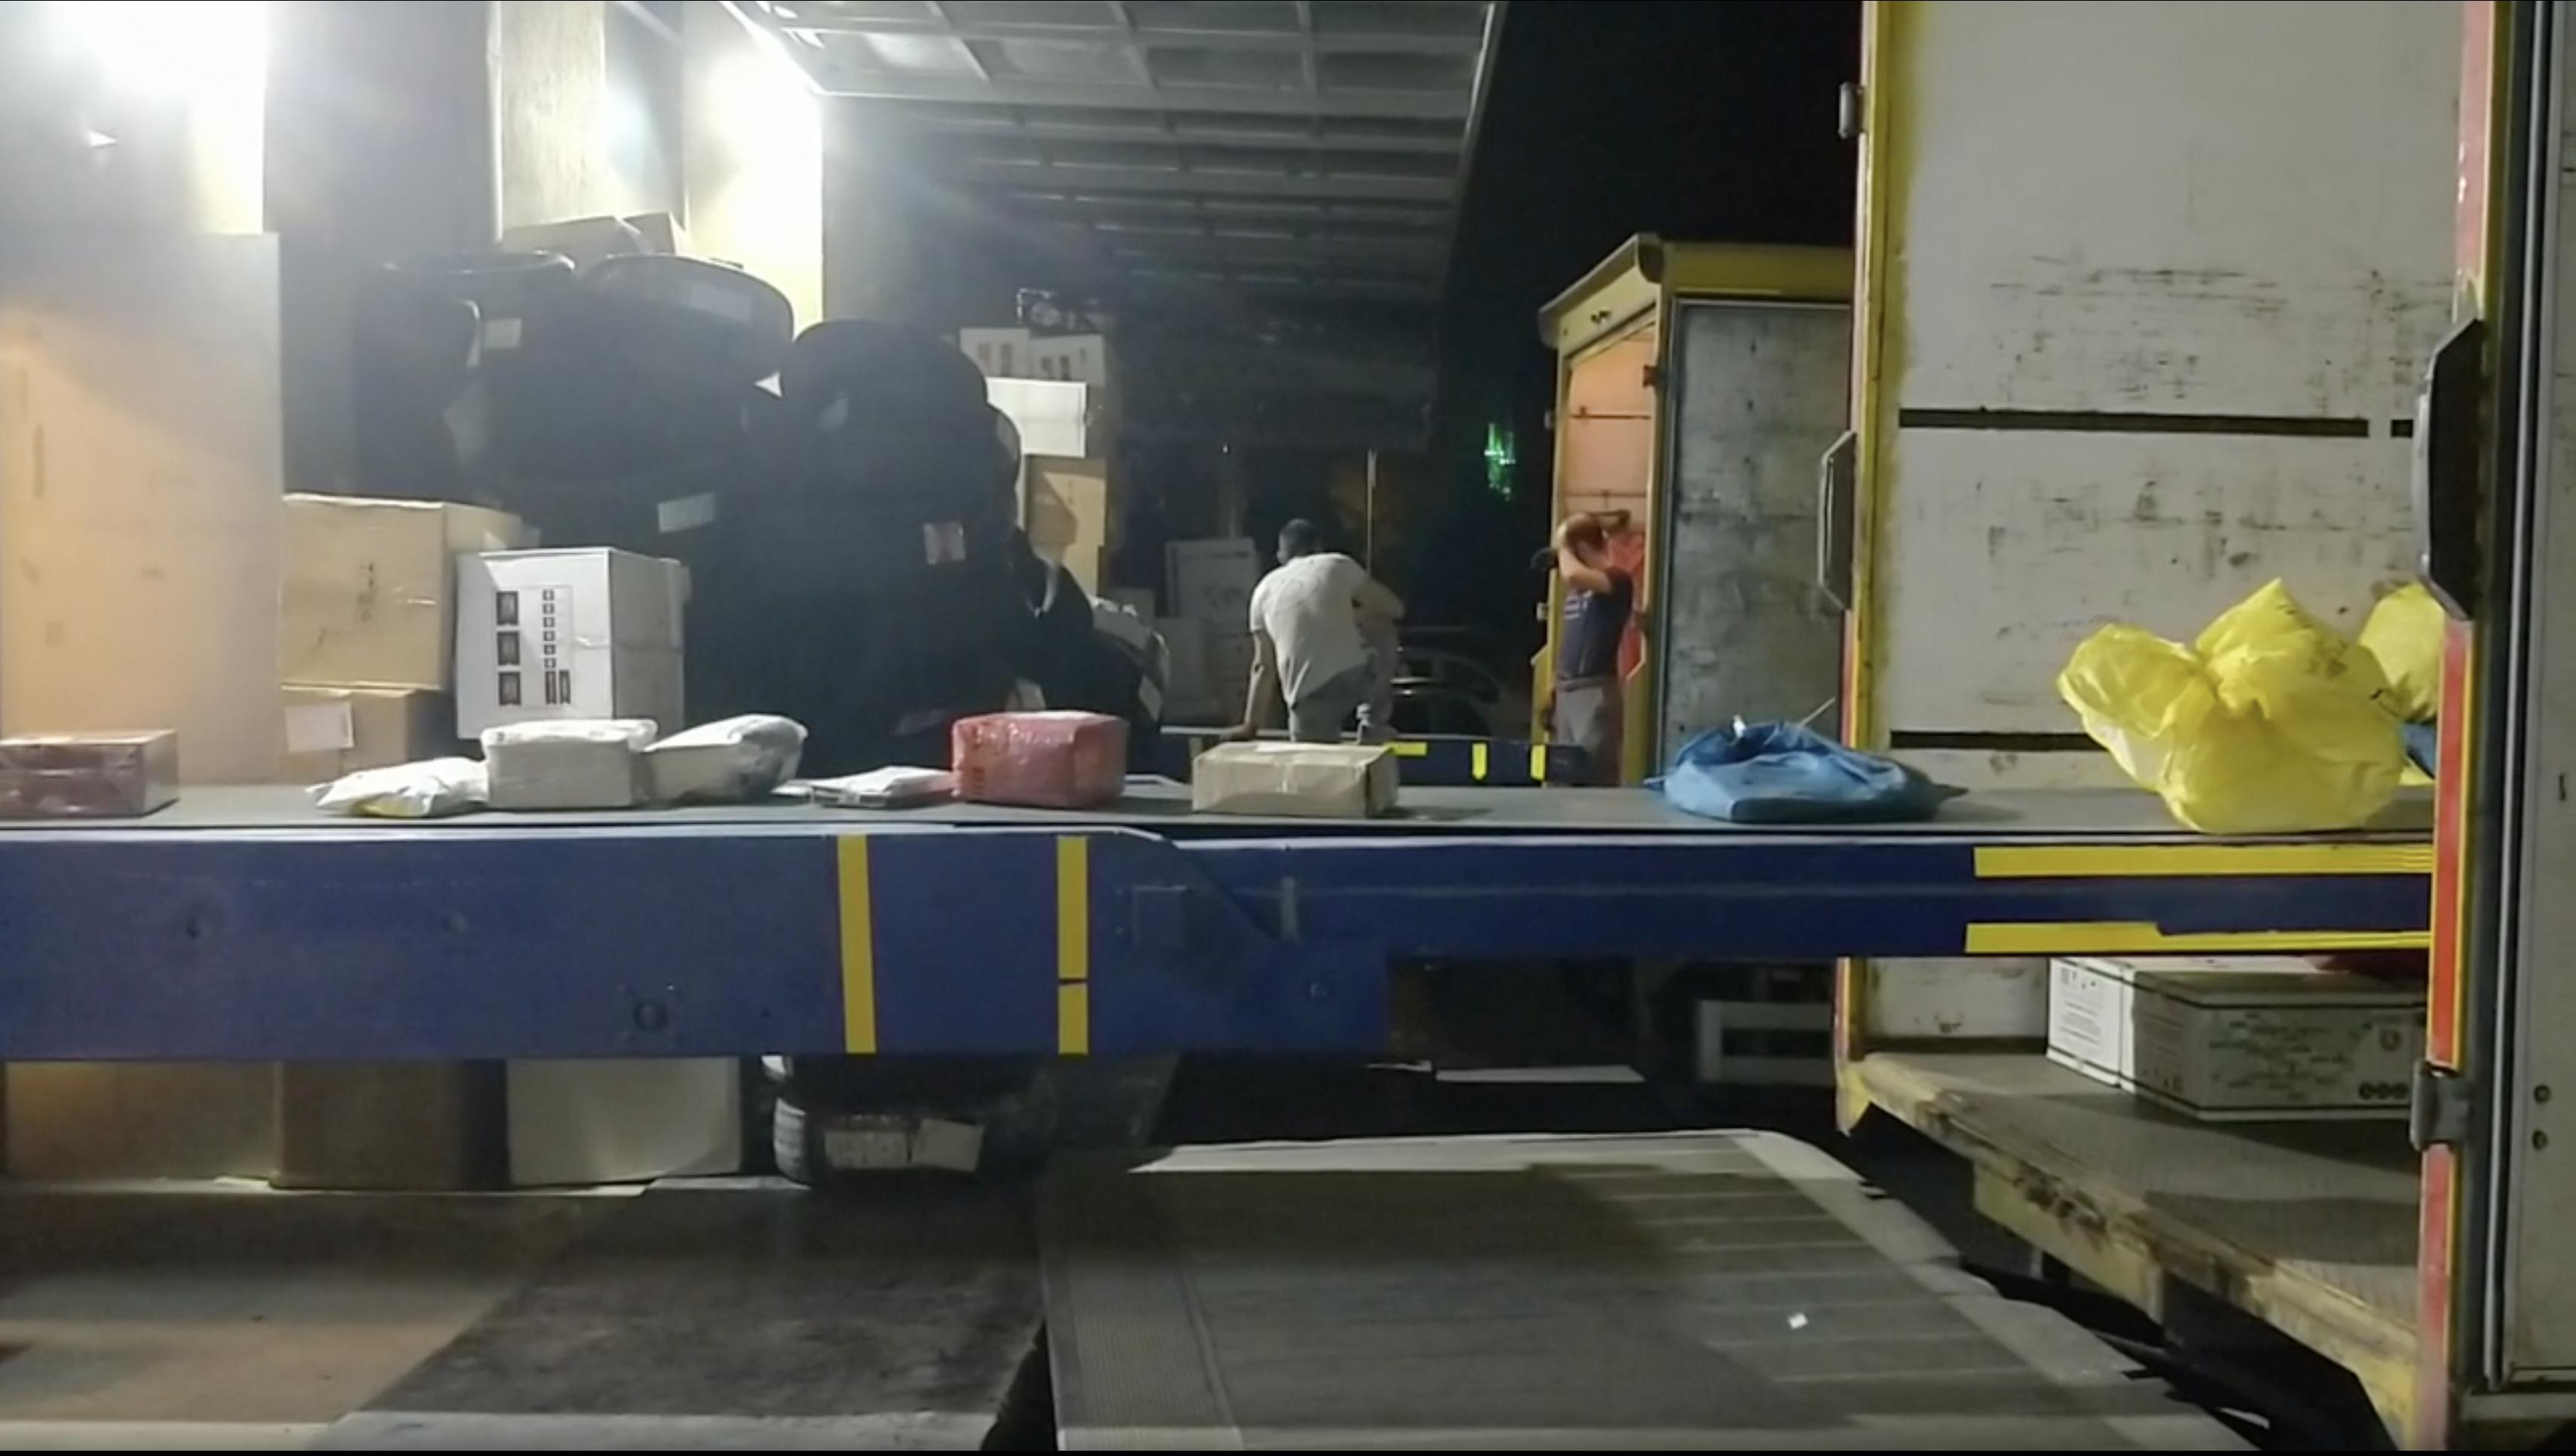Box: (950, 714, 1132, 805), (1198, 739, 1390, 818), (482, 722, 643, 811), (0, 742, 176, 821)
bag: (2071, 624, 2394, 821), (1654, 727, 1949, 821), (647, 731, 790, 812), (315, 769, 487, 818), (827, 766, 950, 807)
